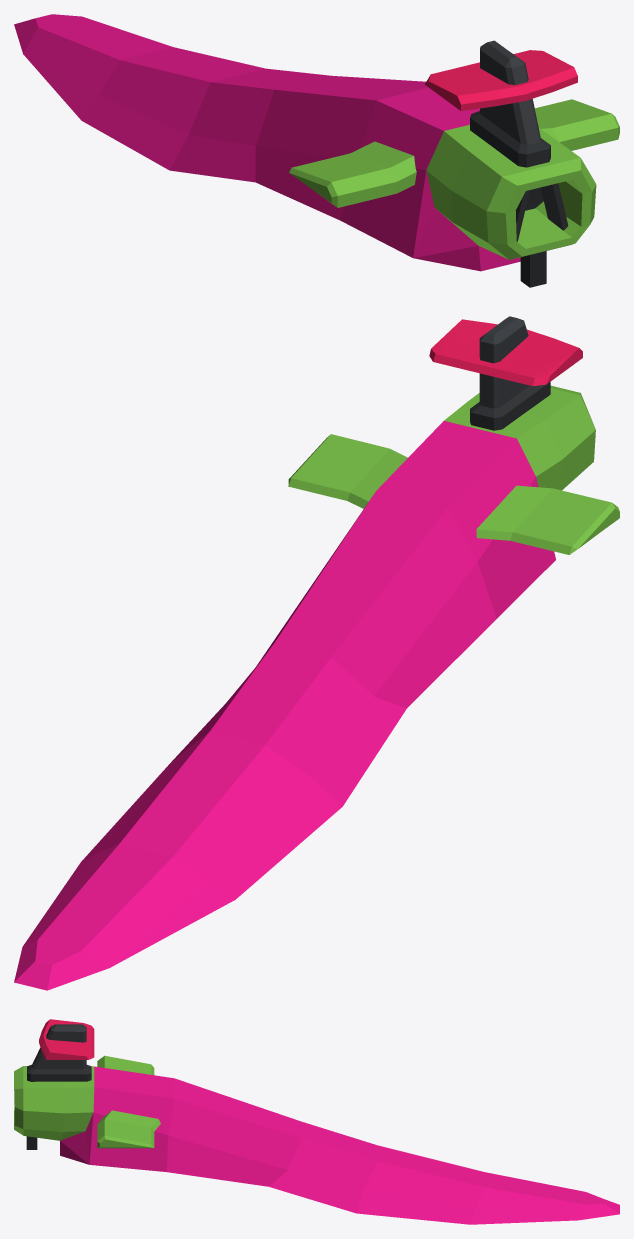
The model's file is SM_Veh_OpenWheeler_01_Air_Box_01.fbx.
3 views of the same model, one above another, from view 1: azimuth 30°, elevation 25°; view 2: azimuth 150°, elevation 25°; view 3: azimuth 270°, elevation 25° (orthographic). The views are drawn at different scales.
Visible parts, largest first — view 1: SM_Veh_OpenWheeler_01_Air_Box_01; view 2: SM_Veh_OpenWheeler_01_Air_Box_01; view 3: SM_Veh_OpenWheeler_01_Air_Box_01.
Part boxes in pixels (x1=…): SM_Veh_OpenWheeler_01_Air_Box_01: x1=14, y1=14, x2=619, y2=287; SM_Veh_OpenWheeler_01_Air_Box_01: x1=14, y1=316, x2=619, y2=990; SM_Veh_OpenWheeler_01_Air_Box_01: x1=14, y1=1019, x2=619, y2=1224.
Size of the model in its own units: 71.95 by 75.21 by 224.
